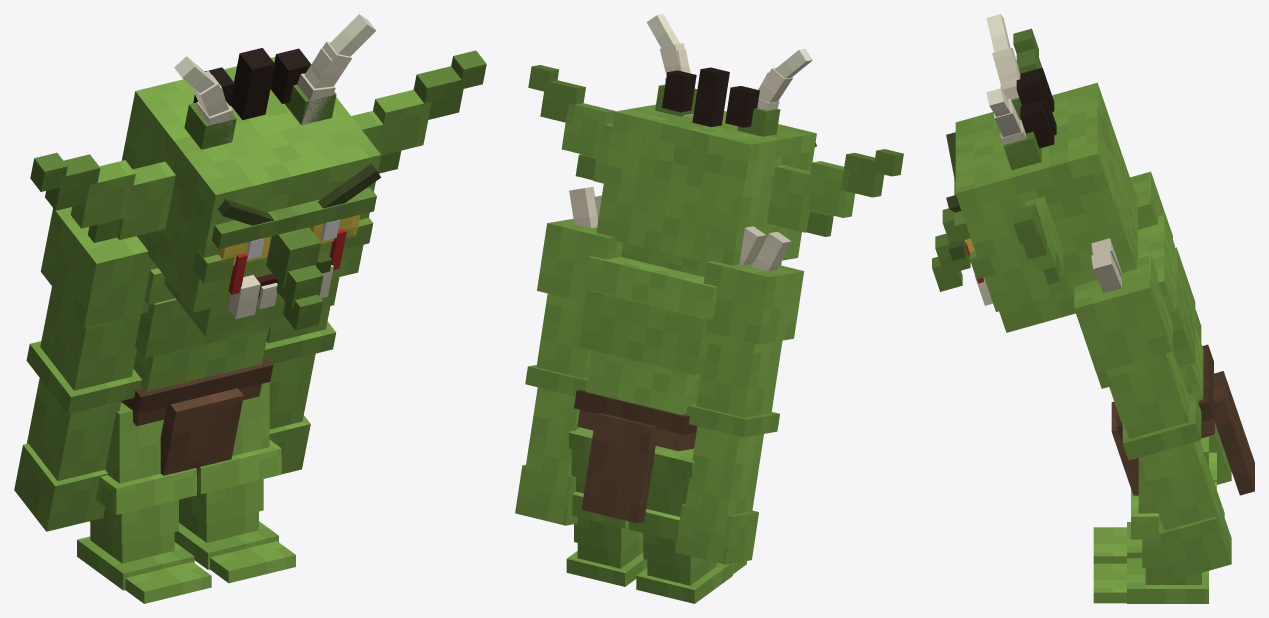
File: goblin_base_v3_evo2.glb
The picture shows the model from 3 angles, left to right: view 1: azimuth 30°, elevation 25°; view 2: azimuth 150°, elevation 25°; view 3: azimuth 270°, elevation 25°; orthographic projection. The views are drawn at different scales.
Visible parts, largest first — view 1: Head, ArmR, Torso, LegR, LegL, ArmL; view 2: Head, Torso, ArmR, ArmL, LegR, LegL; view 3: Head, ArmL, Torso, LegL, ArmR, LegR.
Boxes of the visible parts, <box> form: Head: <box>30,14,486,336</box>; ArmR: <box>14,207,157,531</box>; Torso: <box>121,268,287,493</box>; LegR: <box>77,402,211,603</box>; LegL: <box>174,382,295,583</box>; ArmL: <box>263,306,336,474</box>; Head: <box>528,14,903,277</box>; Torso: <box>574,256,717,523</box>; ArmR: <box>675,226,804,564</box>; ArmL: <box>515,186,622,525</box>; LegR: <box>628,446,746,603</box>; LegL: <box>566,427,647,586</box>; Head: <box>932,14,1137,332</box>; ArmL: <box>1074,238,1231,579</box>; Torso: <box>1096,215,1254,495</box>; LegL: <box>1093,436,1216,603</box>; ArmR: <box>1130,171,1231,484</box>; LegR: <box>1093,452,1216,563</box>.
Size of the model in its own units: 1.09 by 1.39 by 0.7835.
Materials: 27 (27 with a texture image).
